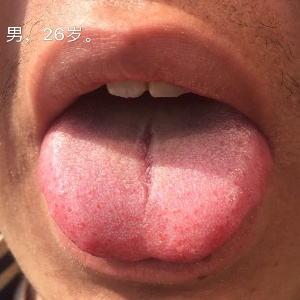st: (37, 121, 275, 266)
